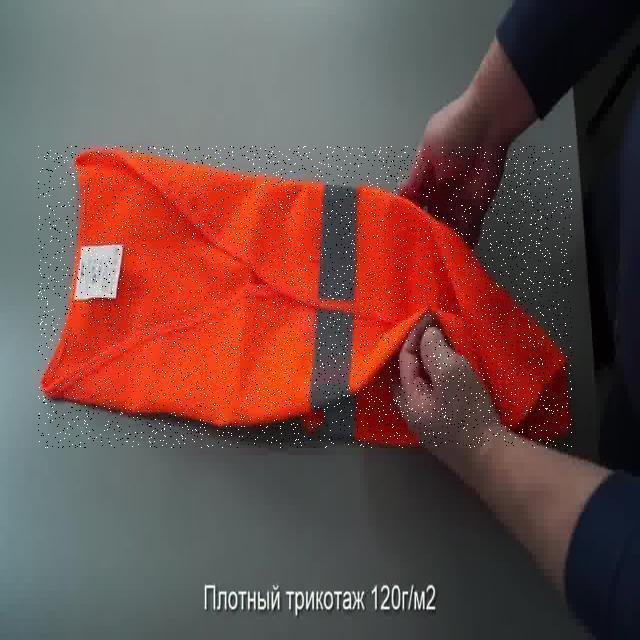no glove: (374, 298, 590, 552), (372, 32, 568, 244)
vest: (38, 146, 572, 448)
